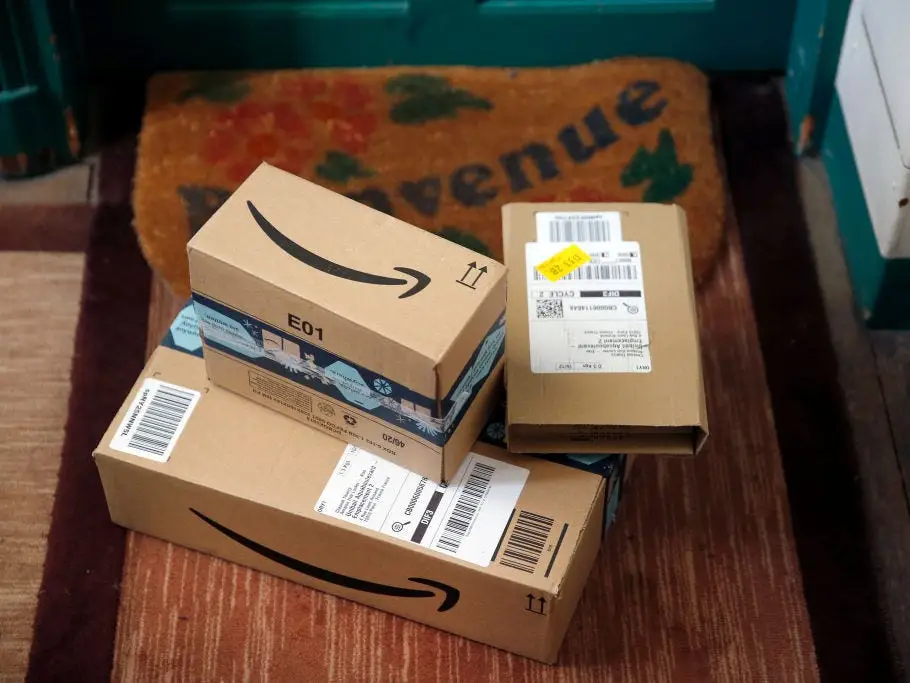package: (86, 304, 657, 680), (174, 153, 520, 501), (492, 192, 727, 470)
